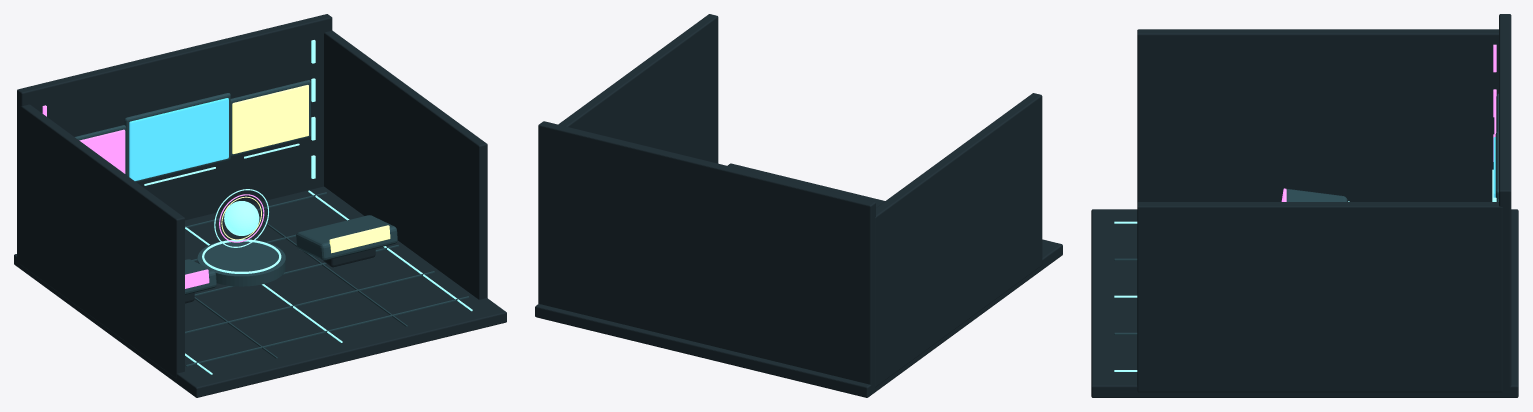
Rendered from NexusControlRoom.fbx.
The picture shows the model from 3 angles, left to right: view 1: azimuth 30°, elevation 25°; view 2: azimuth 150°, elevation 25°; view 3: azimuth 270°, elevation 25°; orthographic projection. The views are drawn at different scales.
Parts seen in each view (by area): view 1: Nexus_Floor, Nexus_LeftWall, Nexus_RightWall, Nexus_BackWall, Screen_User, Screen_Agent_Right, HoloBase, OperatorConsole_3.2, Screen_User_Frame, Screen_Agent_Left, Nexus_Hologram, Screen_Agent_Right_Frame (+6 smaller); view 2: Nexus_BackWall, Nexus_LeftWall, Nexus_RightWall, Nexus_Floor; view 3: Nexus_RightWall, Nexus_LeftWall, Nexus_Floor, Nexus_BackWall, OperatorConsole_-3.2.
Boxes of the visible parts, left/top/right/bottom form: Nexus_Floor: left=14, top=186, right=506, bottom=397; Nexus_LeftWall: left=20, top=104, right=184, bottom=378; Nexus_RightWall: left=324, top=30, right=487, bottom=299; Nexus_BackWall: left=17, top=14, right=332, bottom=260; Screen_User: left=129, top=98, right=228, bottom=180; Screen_Agent_Right: left=232, top=85, right=308, bottom=153; HoloBase: left=197, top=239, right=285, bottom=286; OperatorConsole_3.2: left=296, top=215, right=397, bottom=260; Screen_User_Frame: left=124, top=93, right=230, bottom=182; Screen_Agent_Left: left=79, top=129, right=125, bottom=173; Nexus_Hologram: left=224, top=201, right=259, bottom=235; Screen_Agent_Right_Frame: left=230, top=80, right=310, bottom=156; Nexus_BackWall: left=538, top=121, right=875, bottom=386; Nexus_LeftWall: left=875, top=93, right=1042, bottom=387; Nexus_RightWall: left=558, top=14, right=718, bottom=163; Nexus_Floor: left=535, top=163, right=1062, bottom=397; Nexus_RightWall: left=1137, top=202, right=1502, bottom=392; Nexus_LeftWall: left=1137, top=29, right=1498, bottom=202; Nexus_Floor: left=1091, top=209, right=1518, bottom=397; Nexus_BackWall: left=1499, top=14, right=1511, bottom=389; OperatorConsole_-3.2: left=1286, top=189, right=1347, bottom=201.
Size of the model in its own units: 11.02 by 6.01 by 11.2.
